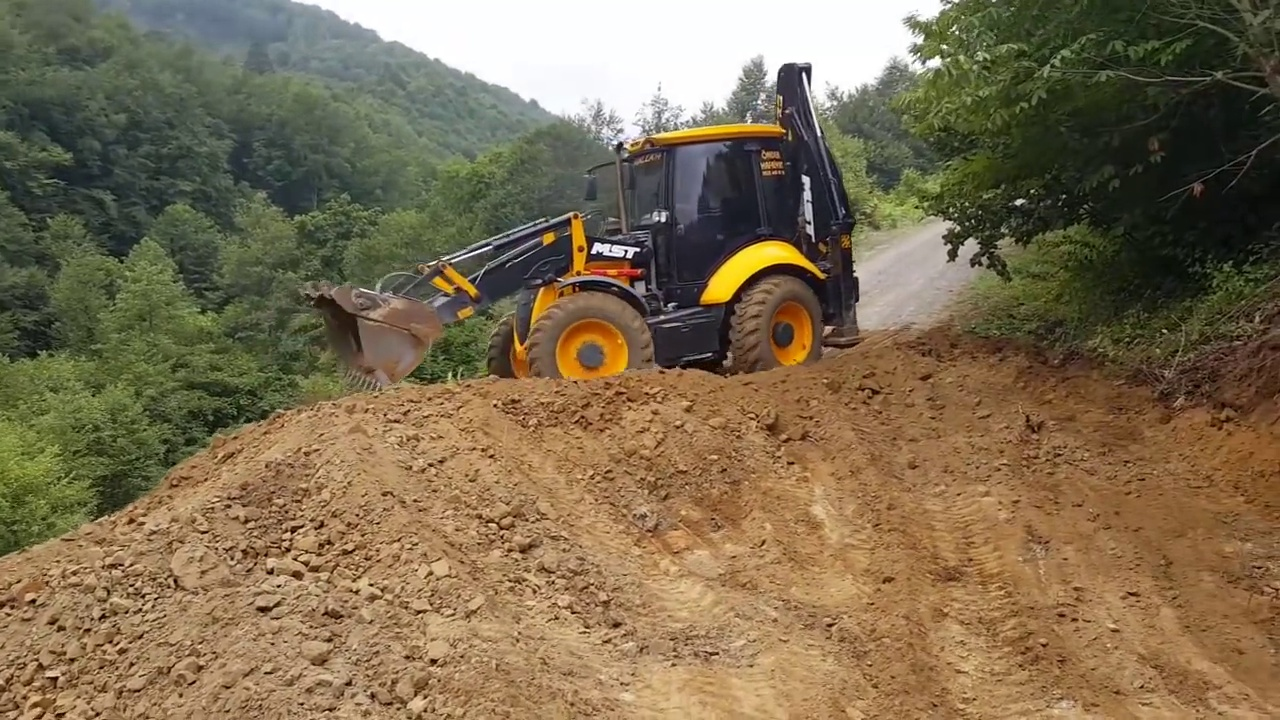wheel loader: (294, 63, 868, 392)
